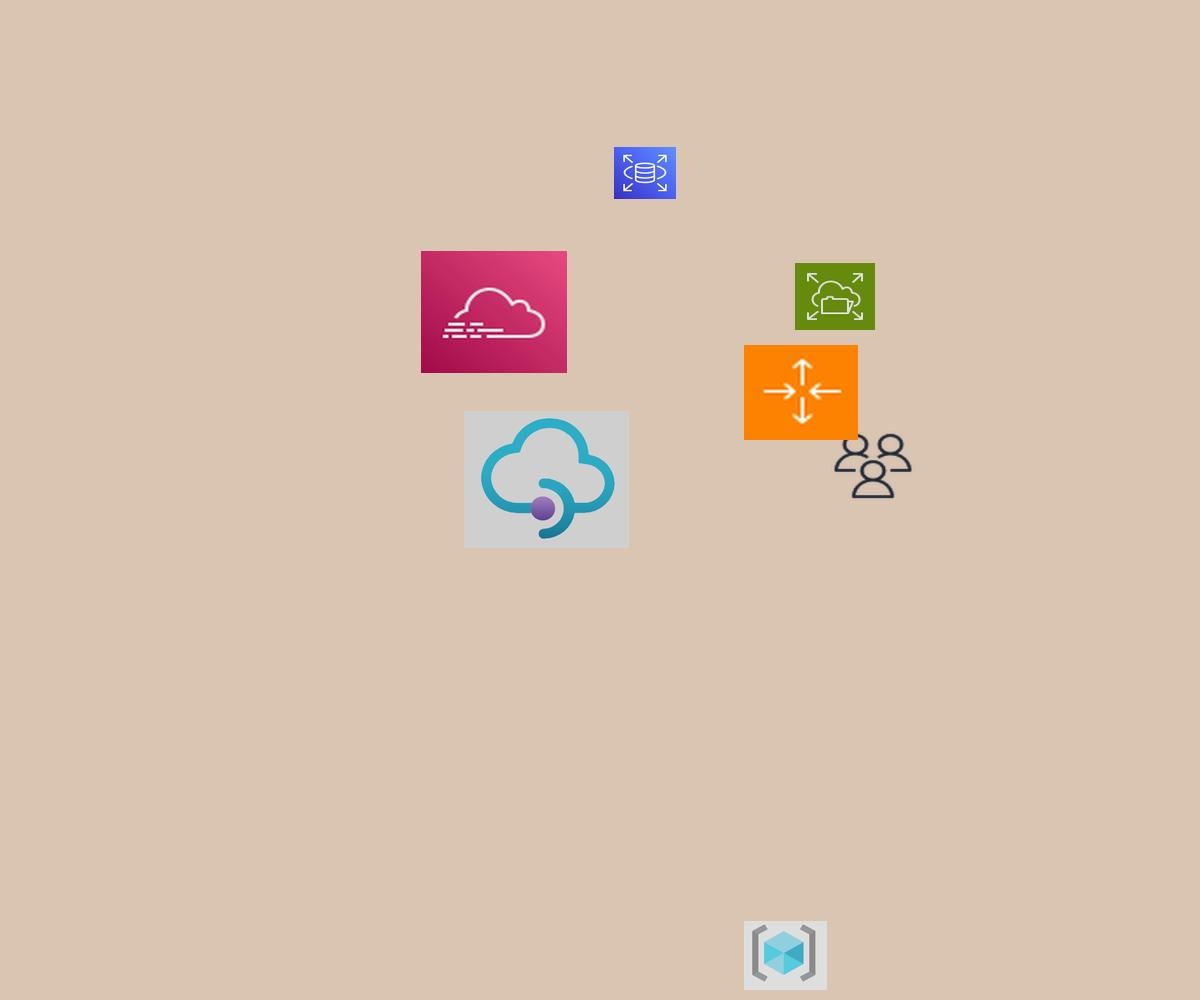AWS-CloudTrail: (421, 251, 567, 373)
AWS-EFS: (795, 263, 875, 330)
AWS-RDS: (614, 147, 676, 199)
AWS-Res_Users: (831, 431, 915, 501)
AWS-Scaling-group: (744, 345, 858, 440)
Azure_api_gateway: (464, 411, 629, 548)
Azure_resource_group: (744, 921, 827, 990)
